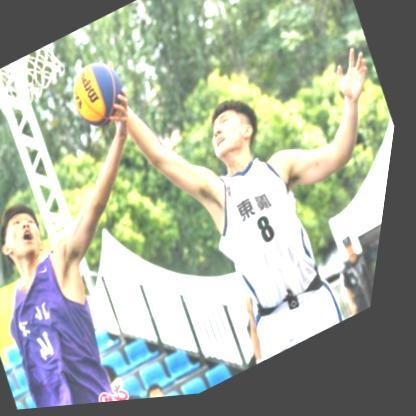basketball: (62, 54, 139, 139)
